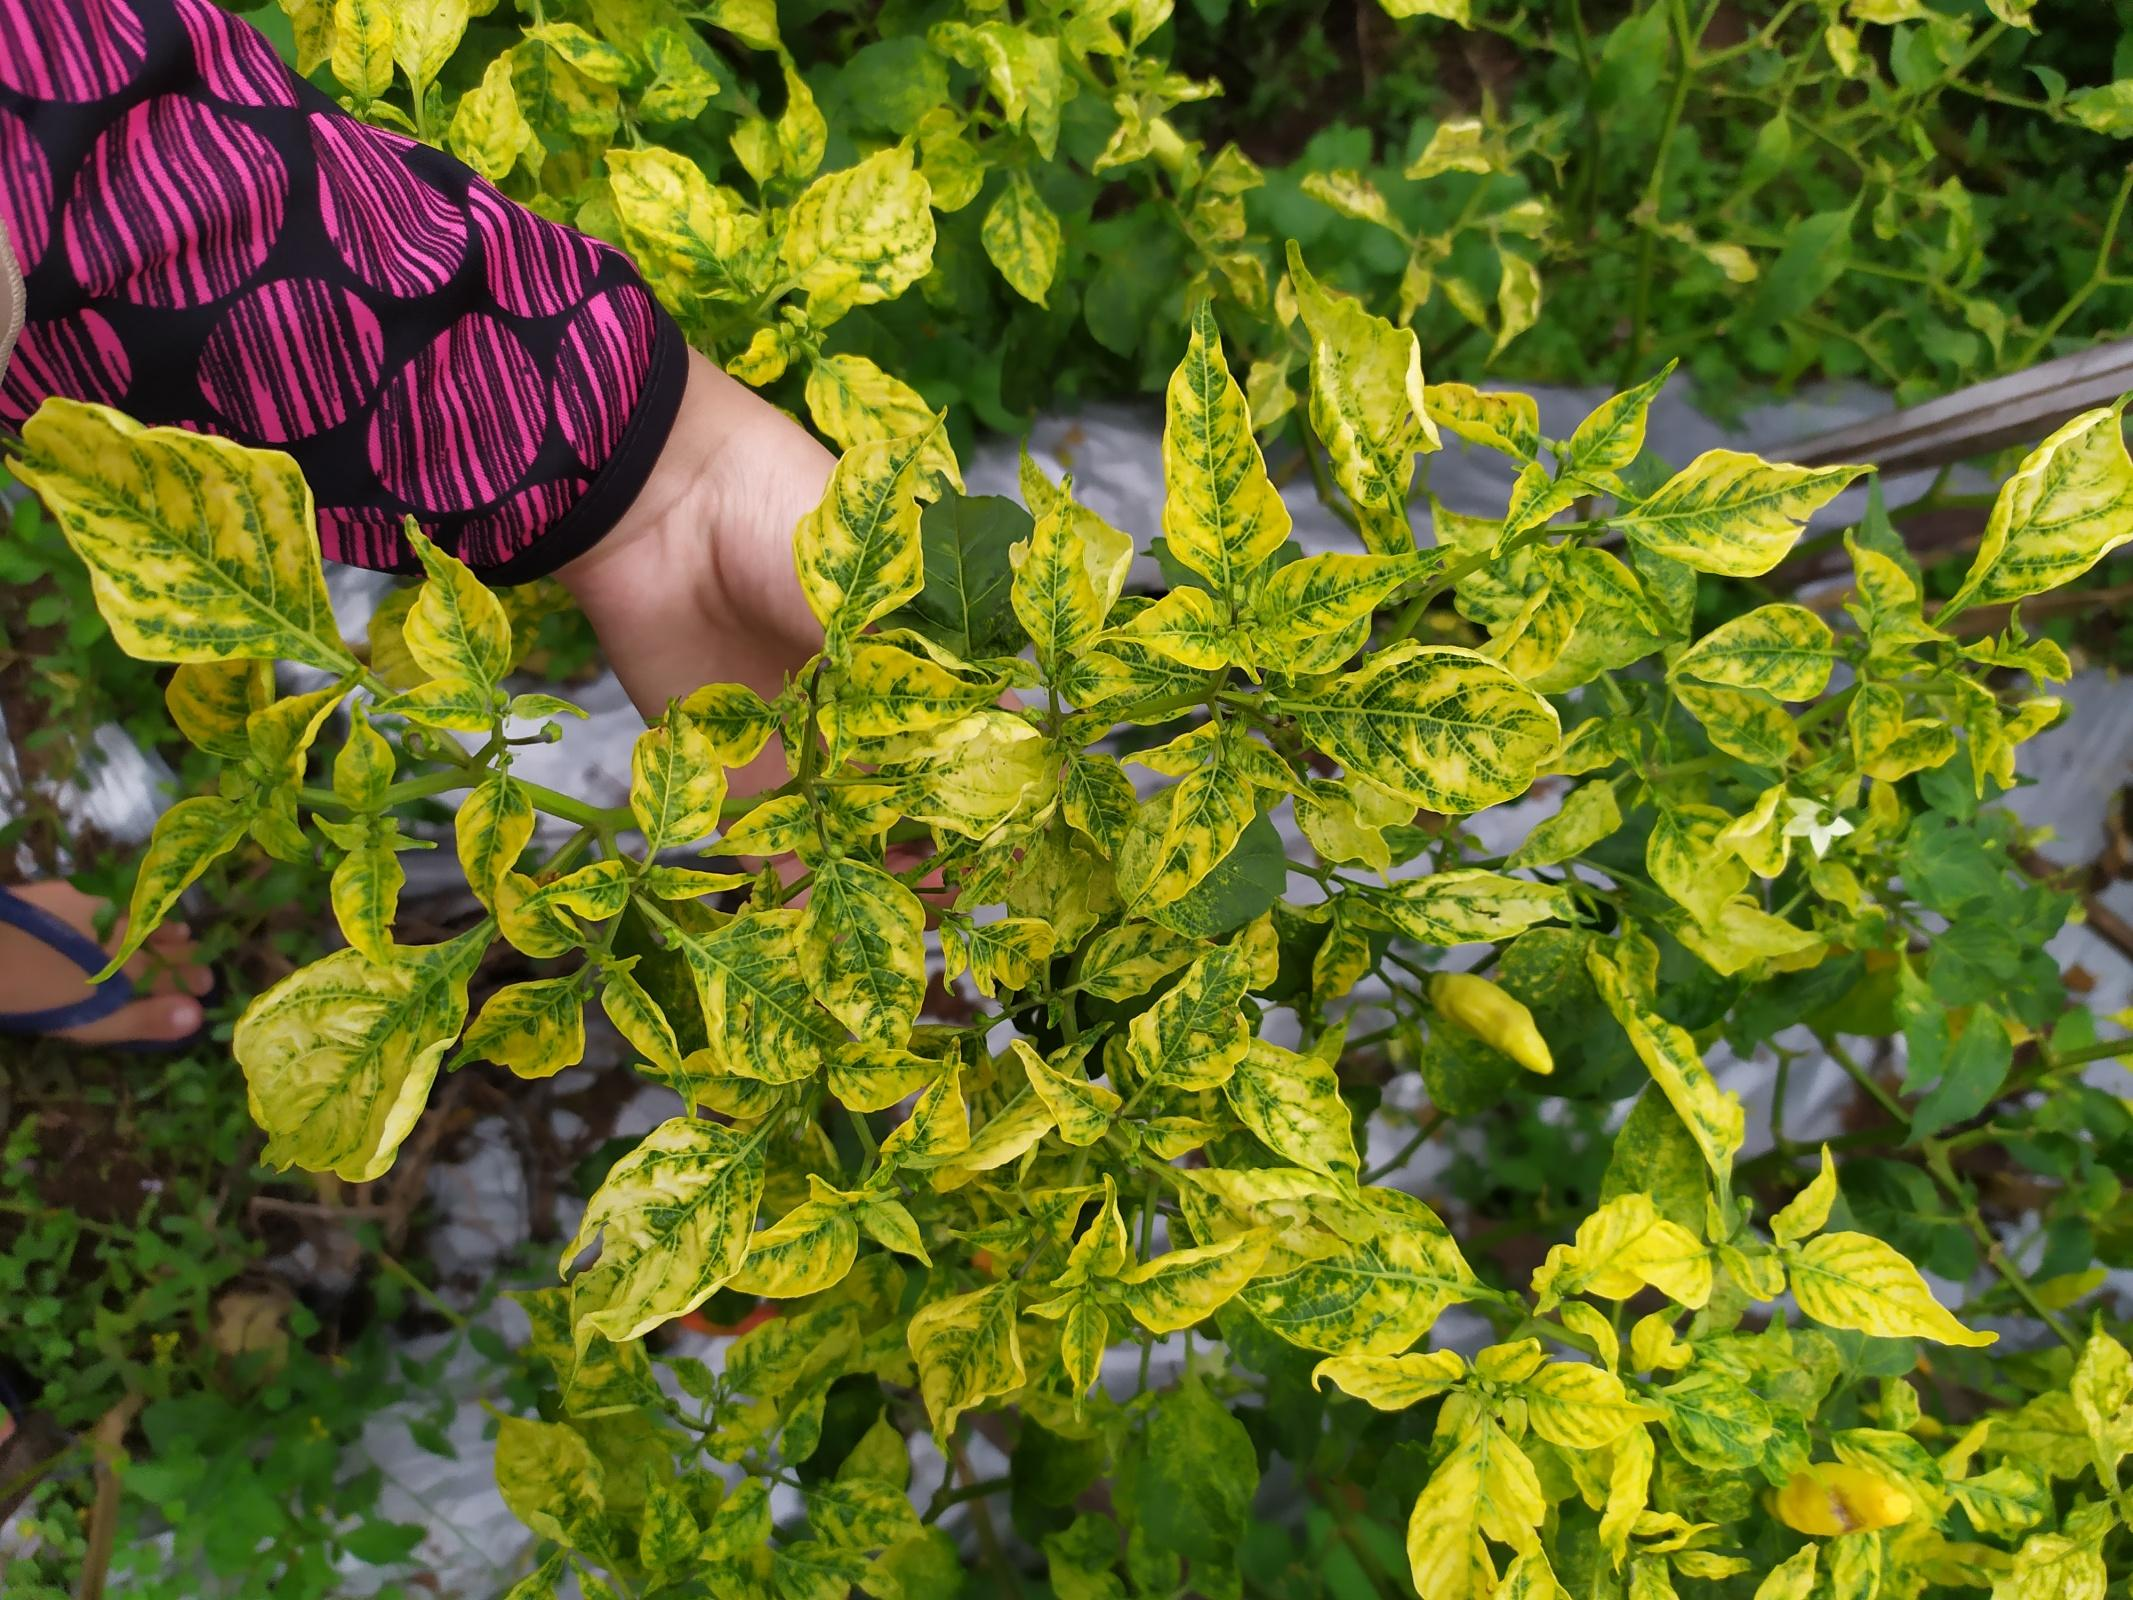cabai_normal: (1426, 970, 1554, 1078)
lalat_buah: (1773, 1460, 1912, 1536)
